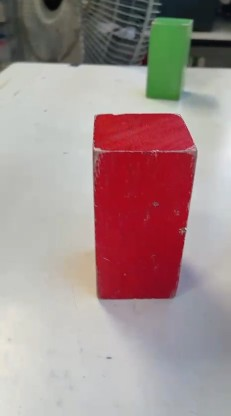red: (89, 108, 196, 303)
